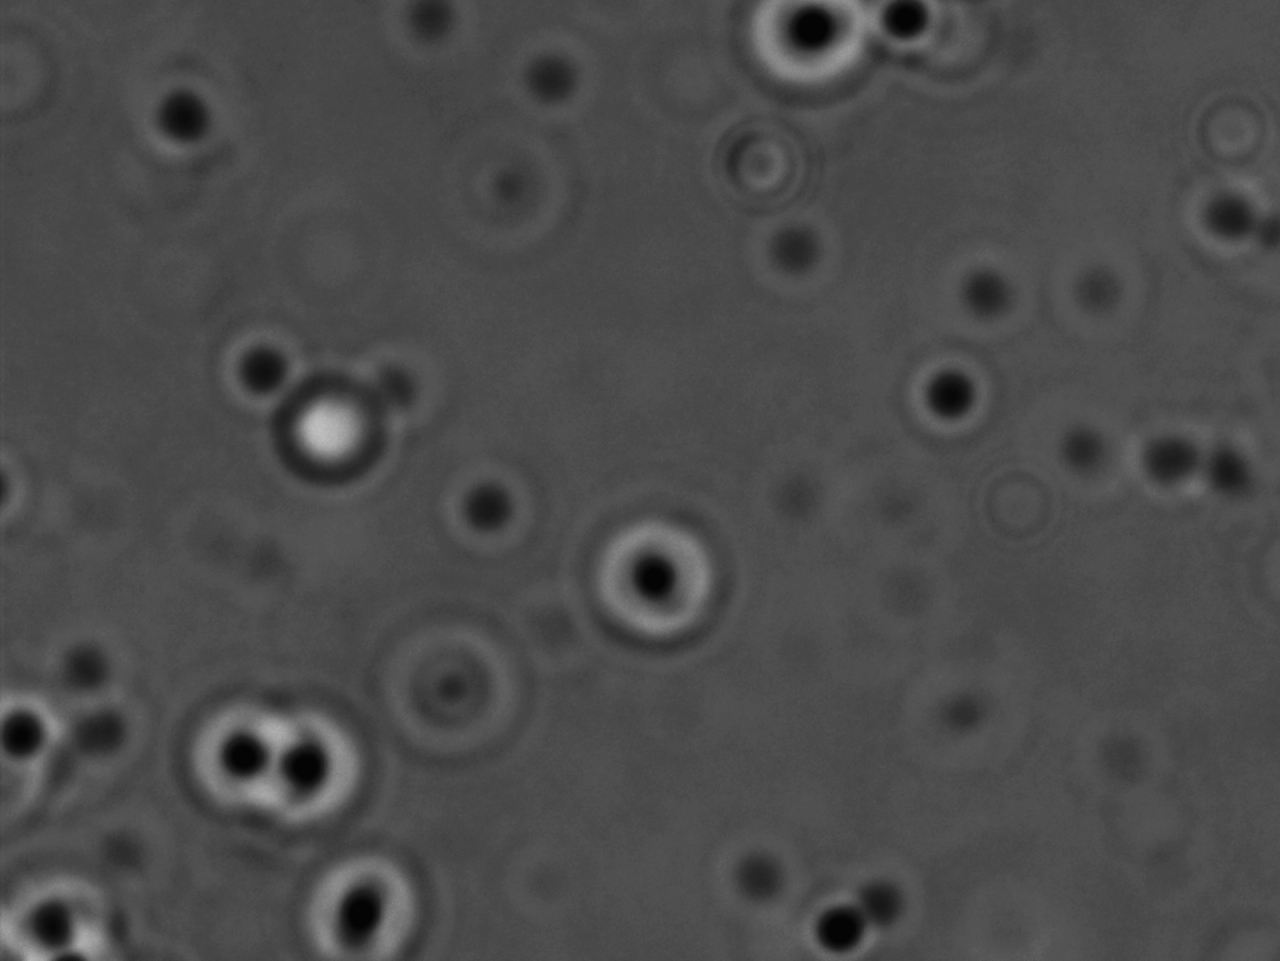depth:-32: (577, 506, 737, 670), (250, 691, 408, 825), (172, 691, 310, 835), (277, 843, 431, 961)
